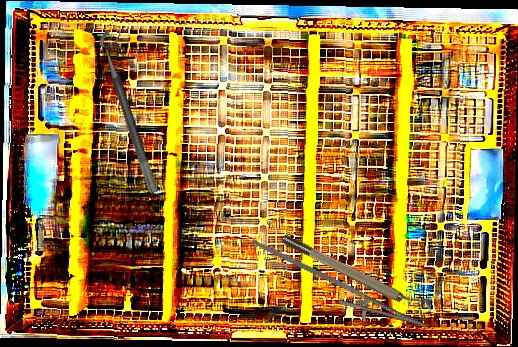Fixation Ring: (278, 225, 436, 322), (96, 26, 172, 195)
Needle Holder: (239, 239, 433, 341)
